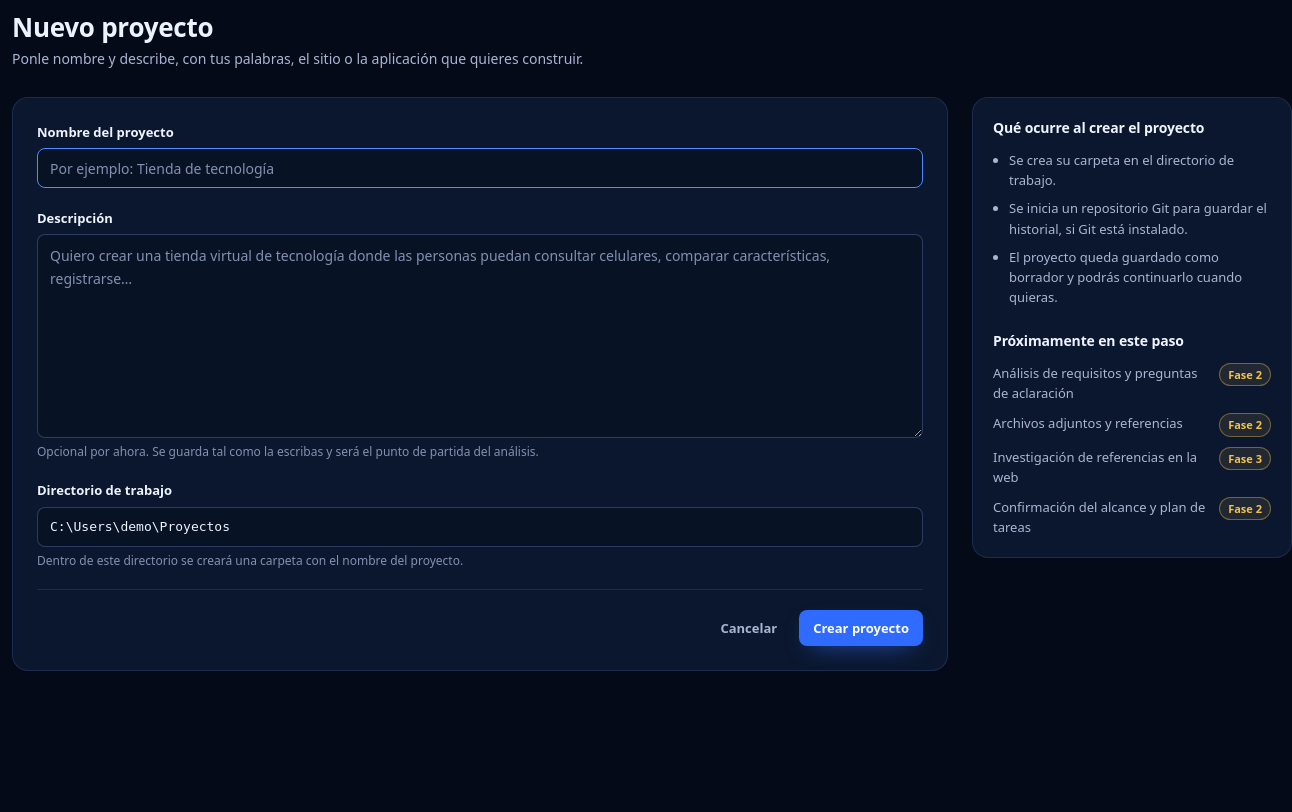
Test: NewProject › muestra junto al campo el error de ruta que devuelve el backend
The width and height of the screenshot is (1292, 812).
Type "Demo" into the field labelled "Nombre del proyecto" at (480,168), box [37,148,923,188]
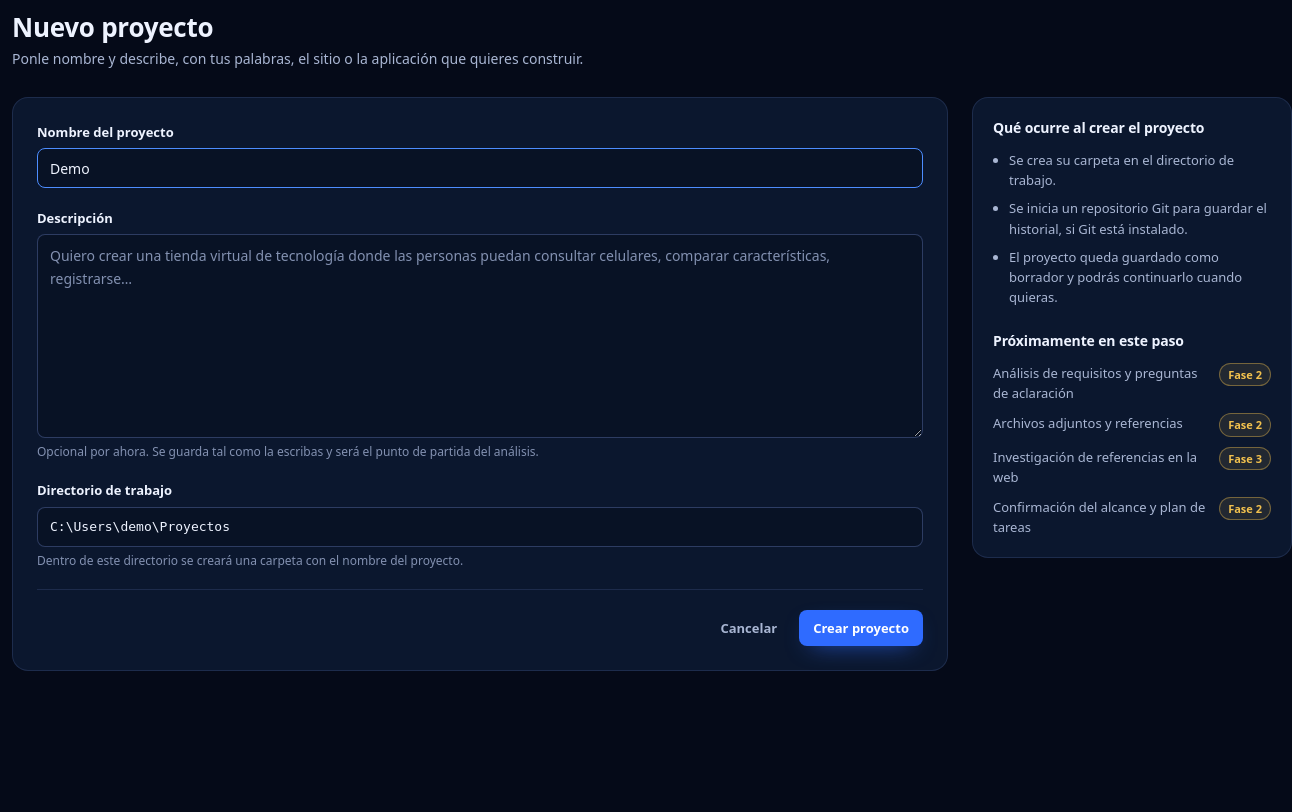
Click the button "Crear proyecto" at (861,628), box [799,610,923,646]
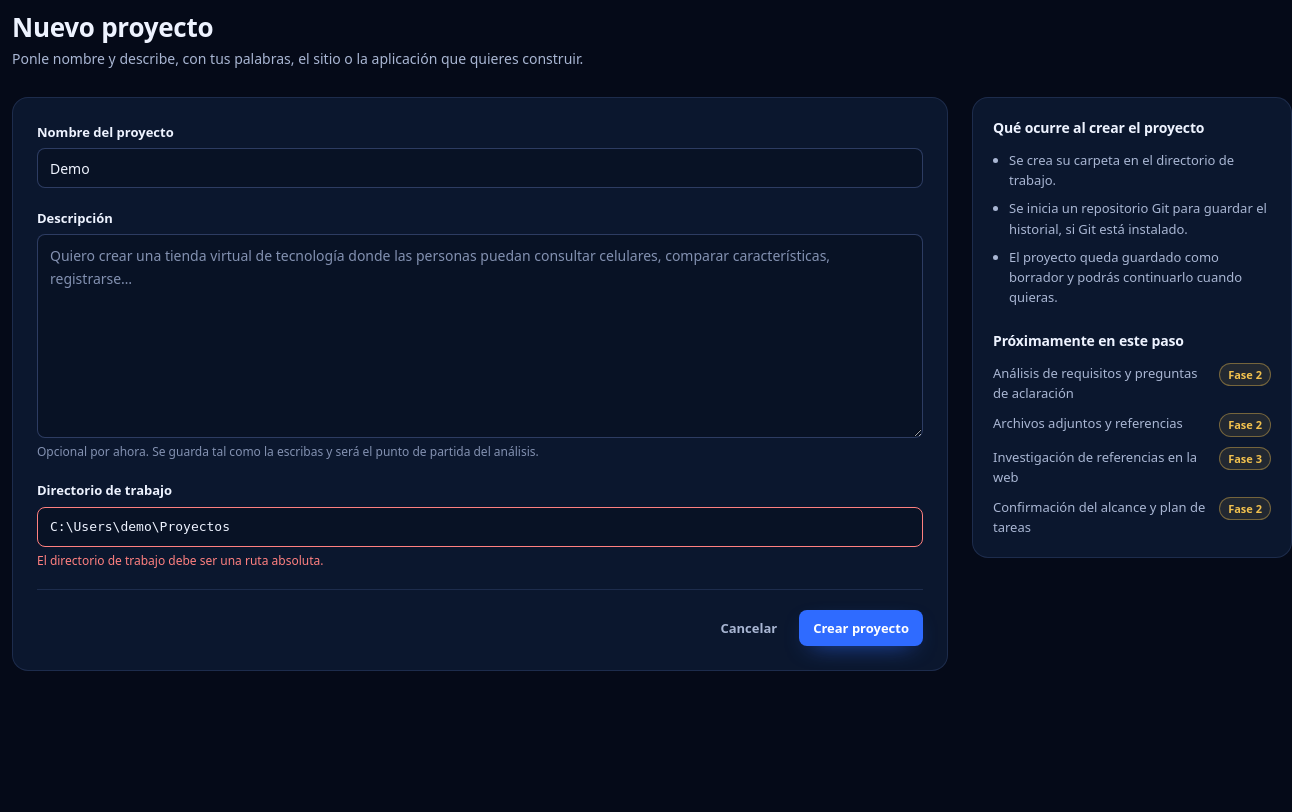
Expected: the message shows "debe ser una ruta absoluta", [37,552,323,569]
